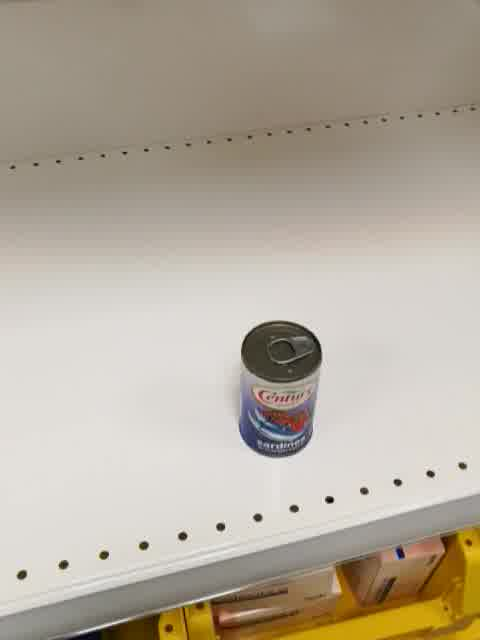sardine: (238, 320, 323, 459)
